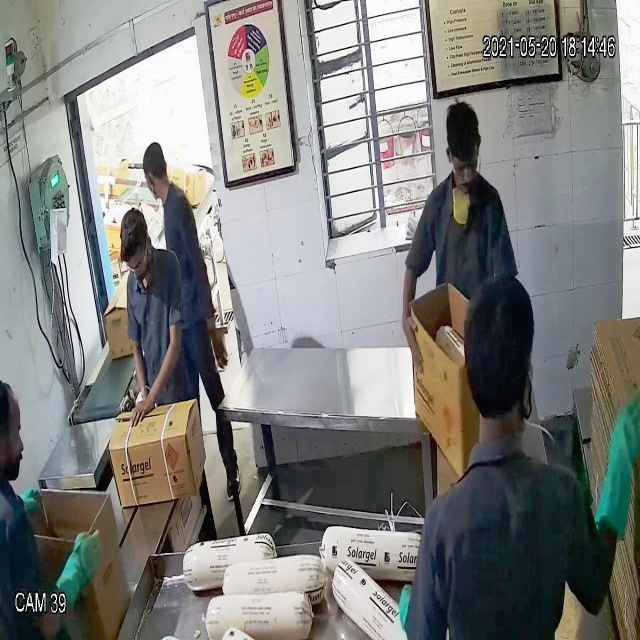Gafas: (446, 146, 483, 180), (120, 248, 149, 276)
